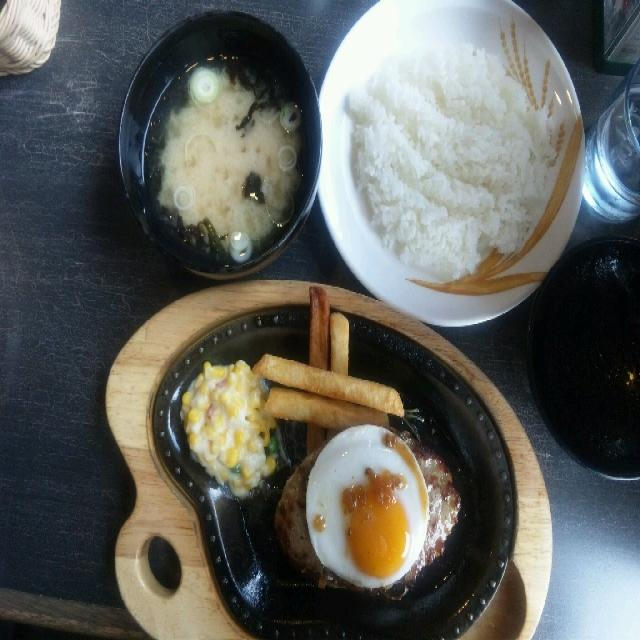炸货点心: (254, 288, 400, 428)
